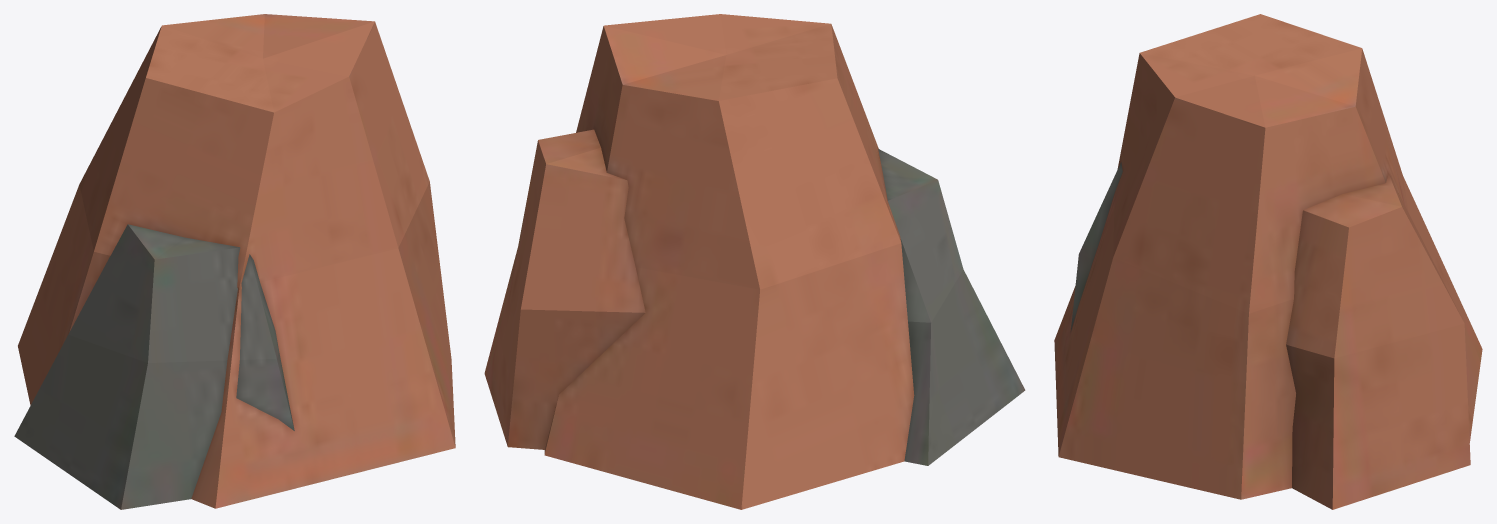
File: minerio_ferro.glb
3 renders of one model, left to right at view 1: azimuth 30°, elevation 25°; view 2: azimuth 150°, elevation 25°; view 3: azimuth 270°, elevation 25°, orthographic.
Visible parts, largest first — view 1: minerio_ferro_corpo; view 2: minerio_ferro_corpo; view 3: minerio_ferro_corpo.
Boxes of the visible parts, box(x1,y1,x2,y2) form: minerio_ferro_corpo: box(14, 14, 455, 509); minerio_ferro_corpo: box(484, 14, 1025, 509); minerio_ferro_corpo: box(1054, 14, 1482, 509).
Bounding box in the file's own units: 0.22 × 0.17 × 0.1924.
1 material, 1 textured.
